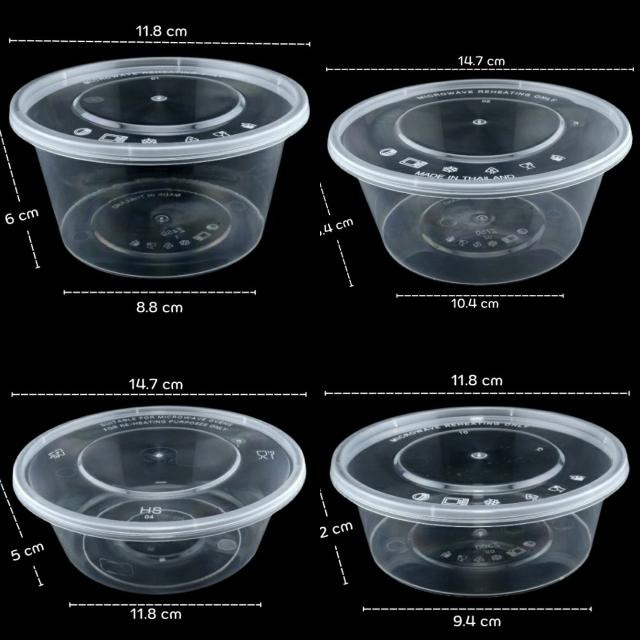Single-Use-Plastic: (10, 58, 309, 278), (328, 79, 631, 284), (330, 408, 629, 596), (12, 406, 305, 593)
